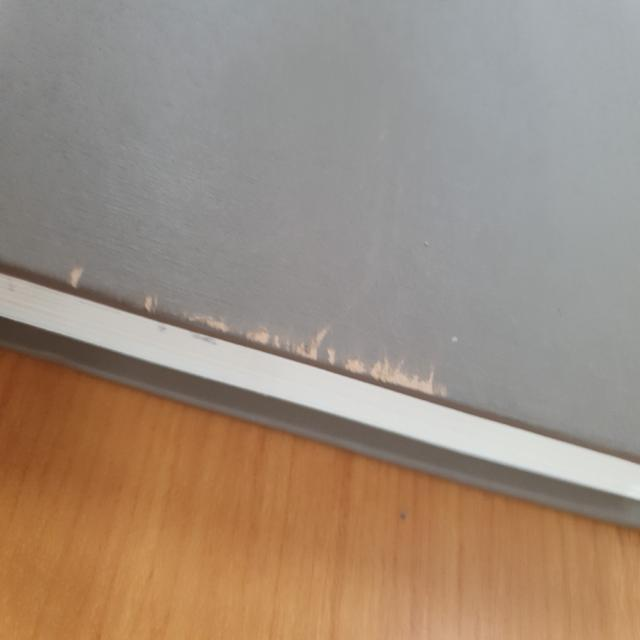Wornout: (142, 288, 455, 403), (61, 261, 94, 294)
